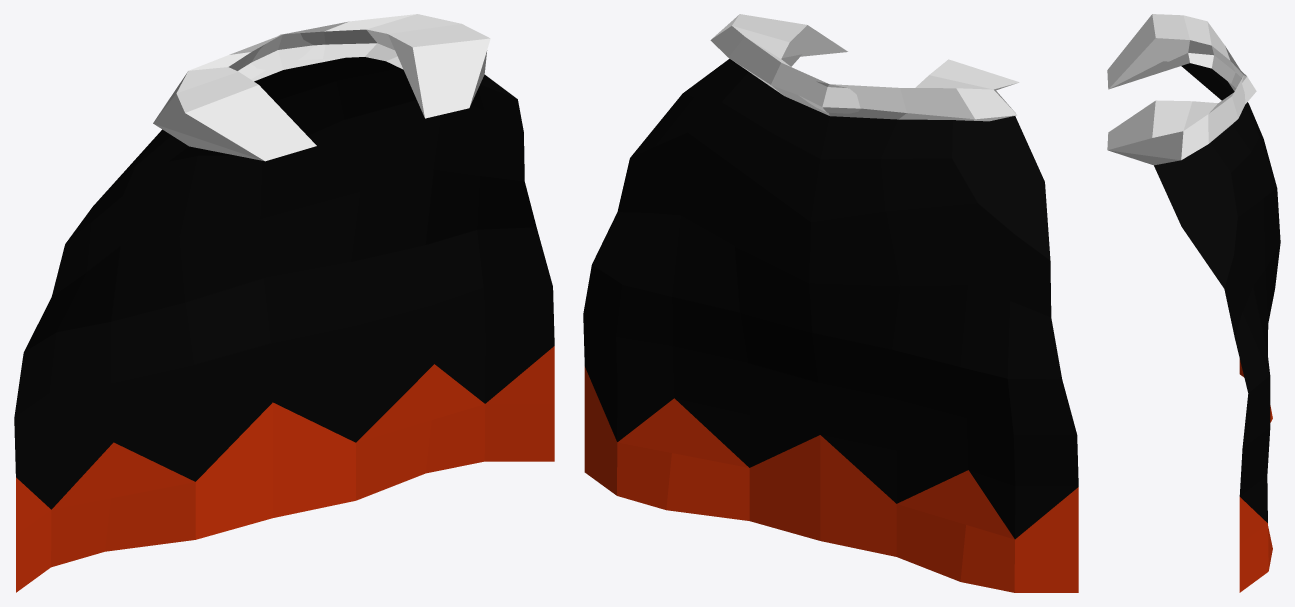
Rendered from cape.fbx.
3 renders of one model, left to right at view 1: azimuth 30°, elevation 25°; view 2: azimuth 150°, elevation 25°; view 3: azimuth 270°, elevation 25°, orthographic. The views are drawn at different scales.
Parts seen in each view (by area): view 1: Cape; view 2: Cape; view 3: Cape.
Part boxes in pixels (bbox=[...]): Cape: bbox=[14, 14, 554, 592]; Cape: bbox=[583, 14, 1078, 592]; Cape: bbox=[1107, 14, 1280, 592].
Size of the model in its own units: 243 by 216 by 81.52.
